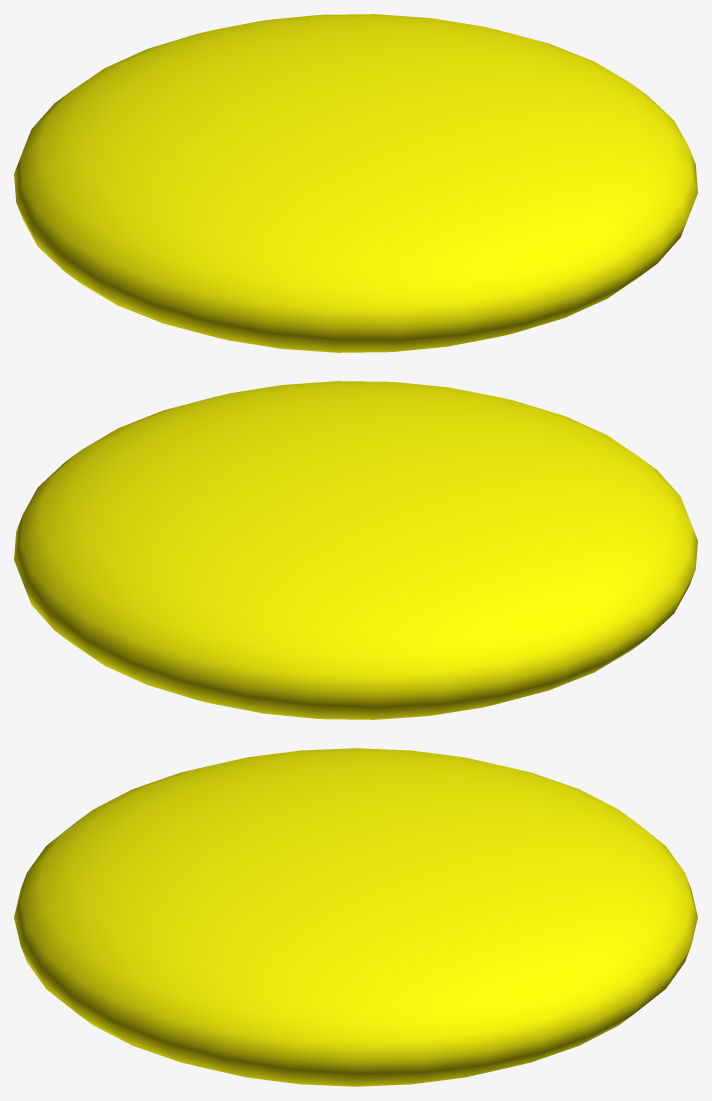
The picture shows the model from 3 angles, top to bottom: view 1: azimuth 30°, elevation 25°; view 2: azimuth 150°, elevation 25°; view 3: azimuth 270°, elevation 25°; orthographic projection.
Parts seen in each view (by area): view 1: Sphere001; view 2: Sphere001; view 3: Sphere001.
Part boxes in pixels (bbox=[...]): Sphere001: bbox=[14, 14, 697, 352]; Sphere001: bbox=[14, 381, 697, 719]; Sphere001: bbox=[14, 748, 697, 1086].
Bounding box in the file's own units: 10914 × 10914 × 3112.
Materials: 1 (1 with a texture image).
